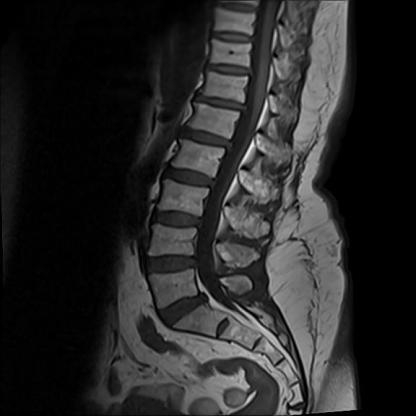Disc Bulgerotation: (150, 296, 216, 322)
Disc Relaxationrotation: (144, 250, 202, 279), (152, 204, 202, 236), (162, 164, 220, 190)
